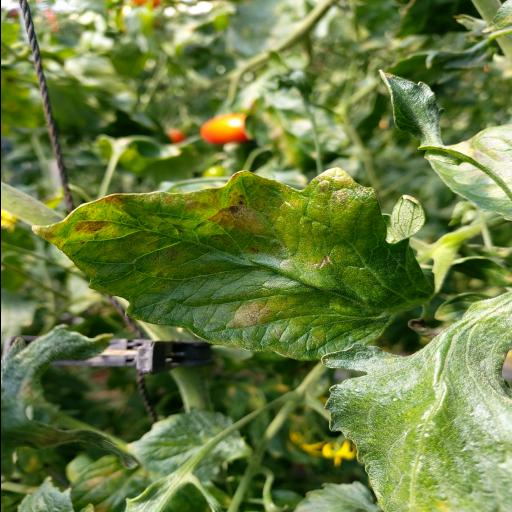disease_tomato: (30, 166, 434, 362)
